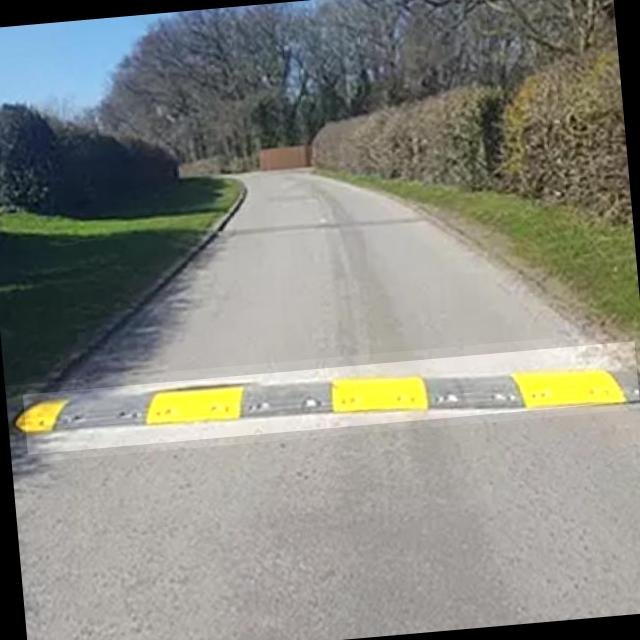bump: (22, 342, 639, 454)
